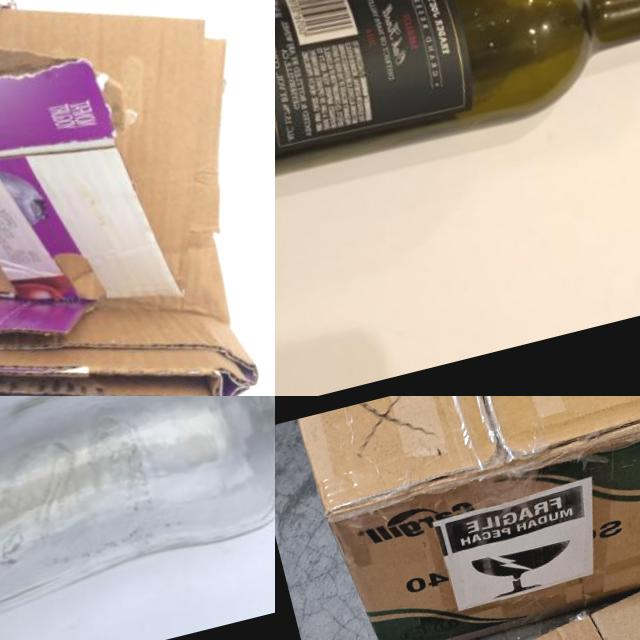garrafa de vidro: (275, 0, 640, 216), (0, 396, 275, 640)
papelão: (0, 0, 275, 396), (283, 396, 640, 640), (302, 528, 640, 640)
